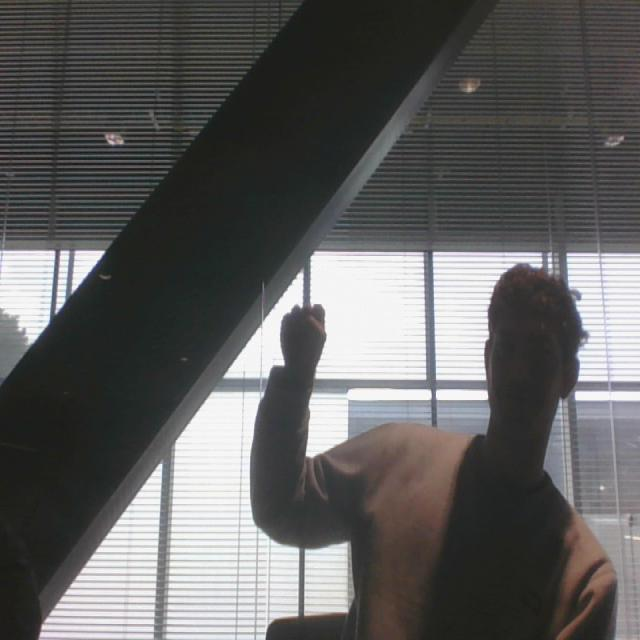stop: (275, 292, 330, 372)
